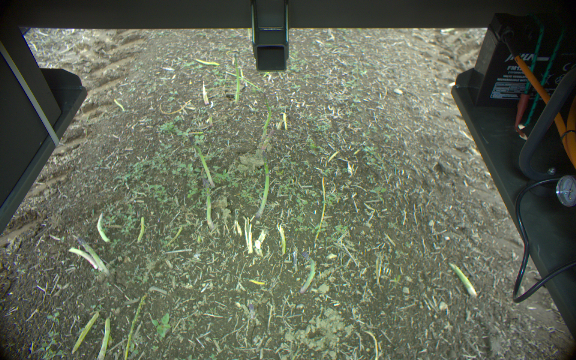aspa: (74, 236, 109, 278), (253, 148, 271, 216), (193, 144, 213, 189), (227, 54, 244, 105), (300, 249, 316, 293), (68, 246, 94, 271), (203, 176, 215, 230), (96, 317, 111, 360), (93, 211, 109, 242), (132, 213, 147, 245), (258, 96, 271, 128)
